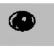correct: (5, 9, 37, 33)
